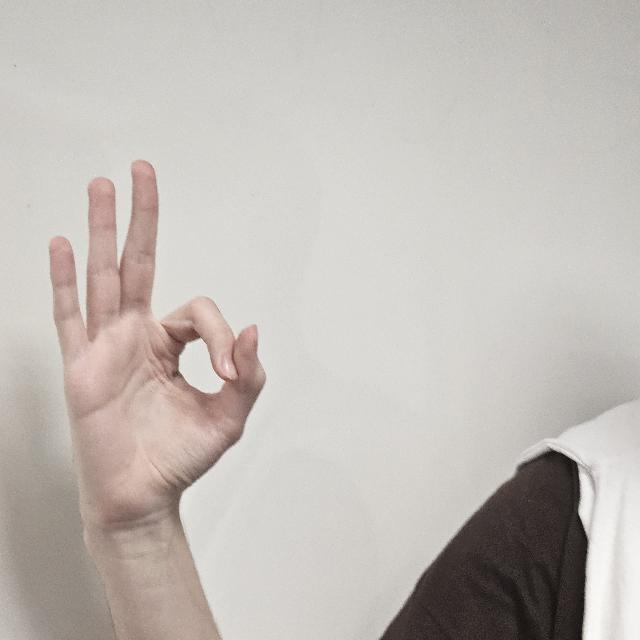Bolinha: (48, 157, 270, 576)
